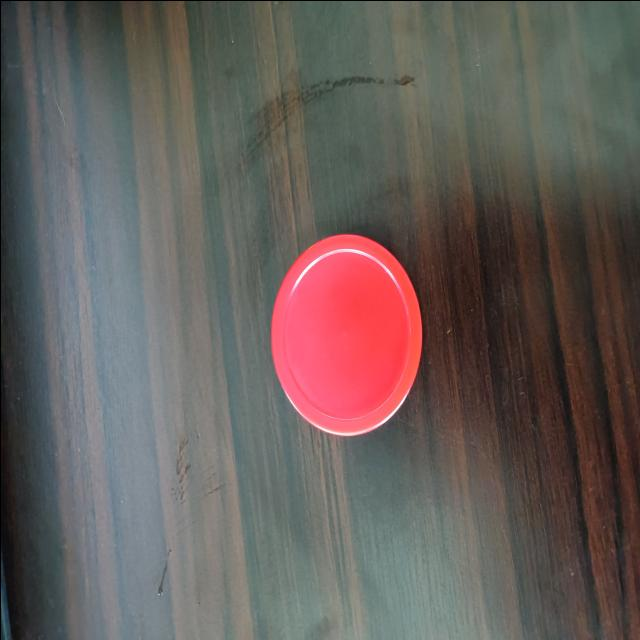chip: (264, 232, 422, 439)
